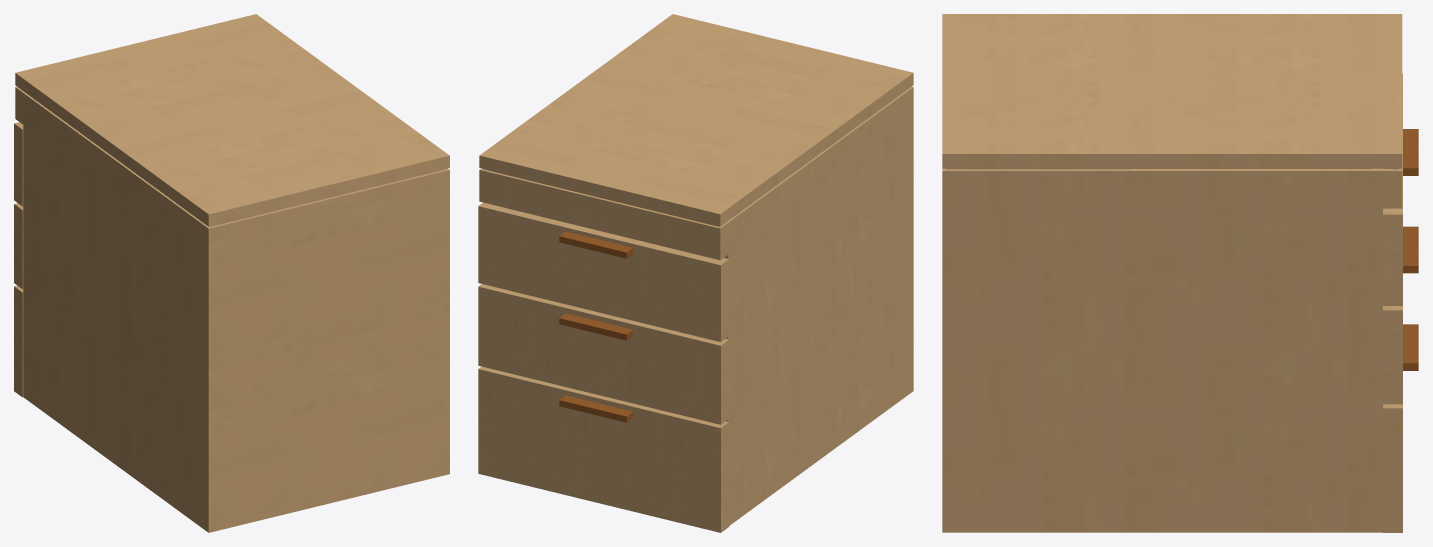
File: Drawer01.glb
3 views of the same model, side by side, from view 1: azimuth 30°, elevation 25°; view 2: azimuth 150°, elevation 25°; view 3: azimuth 270°, elevation 25° (orthographic). The views are drawn at different scales.
Parts seen in each view (by area): view 1: Drawer_Body01, Drawer01_3, Drawer01_2, Drawer01_1; view 2: Drawer_Body01, Drawer01_3, Drawer01_2, Drawer01_1; view 3: Drawer_Body01, Drawer01_3, Drawer01_1, Drawer01_2.
Boxes of the visible parts, x1=… form: Drawer_Body01: x1=15, y1=14, x2=449, y2=532; Drawer01_3: x1=14, y1=285, x2=23, y2=397; Drawer01_2: x1=14, y1=203, x2=23, y2=289; Drawer01_1: x1=14, y1=122, x2=23, y2=206; Drawer_Body01: x1=479, y1=14, x2=913, y2=525; Drawer01_3: x1=478, y1=366, x2=729, y2=532; Drawer01_2: x1=478, y1=284, x2=729, y2=424; Drawer01_1: x1=478, y1=202, x2=729, y2=341; Drawer_Body01: x1=942, y1=14, x2=1402, y2=532; Drawer01_3: x1=1383, y1=324, x2=1418, y2=532; Drawer01_1: x1=1383, y1=73, x2=1418, y2=305; Drawer01_2: x1=1383, y1=226, x2=1418, y2=404.
Size of the model in its own units: 1.16 by 1.46 by 1.66.
1 material, 1 textured.
